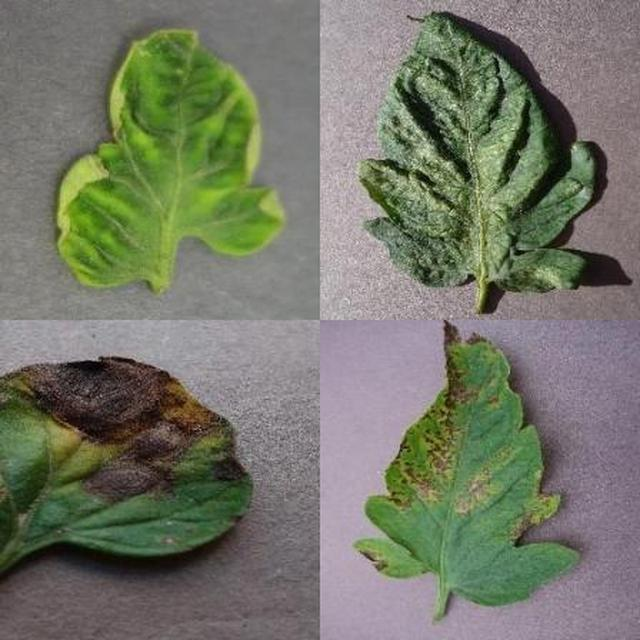Yellow Leaf Curl Virus: (181, 217, 640, 640)
